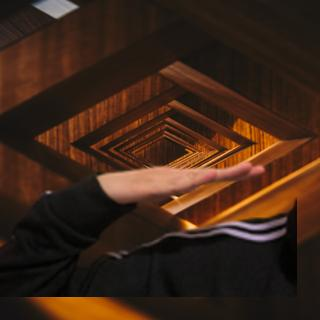Wait: (90, 142, 270, 210)
